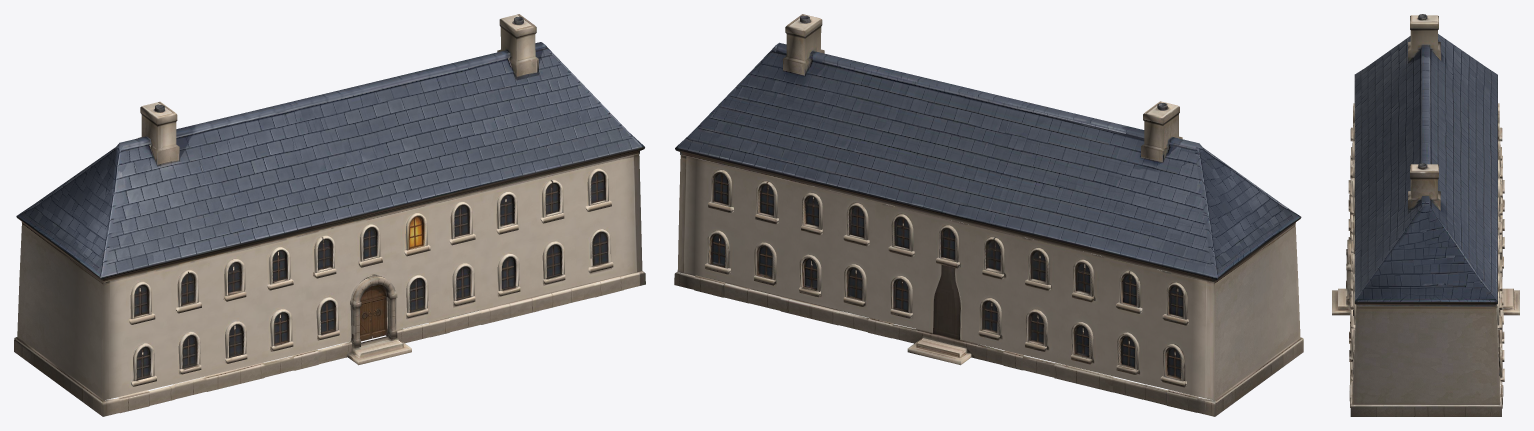
Rendered from act1-a18-4-hospice-range.glb.
The picture shows the model from 3 angles, left to right: view 1: azimuth 30°, elevation 25°; view 2: azimuth 150°, elevation 25°; view 3: azimuth 270°, elevation 25°; orthographic projection. The views are drawn at different scales.
Parts seen in each view (by area): view 1: act1-a18-4-hospice-range; view 2: act1-a18-4-hospice-range; view 3: act1-a18-4-hospice-range.
Boxes of the visible parts, x1=… form: act1-a18-4-hospice-range: x1=14, y1=14, x2=645, y2=416; act1-a18-4-hospice-range: x1=674, y1=14, x2=1303, y2=416; act1-a18-4-hospice-range: x1=1332, y1=14, x2=1519, y2=416.
Bounding box in the file's own units: 30 × 13.44 × 10.54.
1 material, 1 textured.
